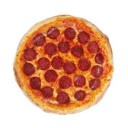pepperonipizza: (15, 15, 113, 112)
